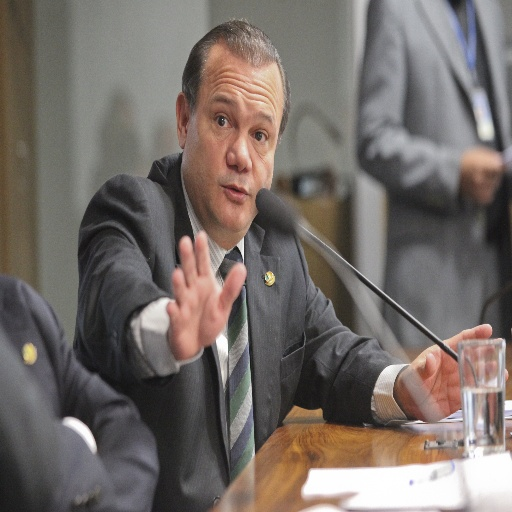hand: (398, 321, 508, 424), (159, 239, 234, 353), (461, 142, 506, 208)
